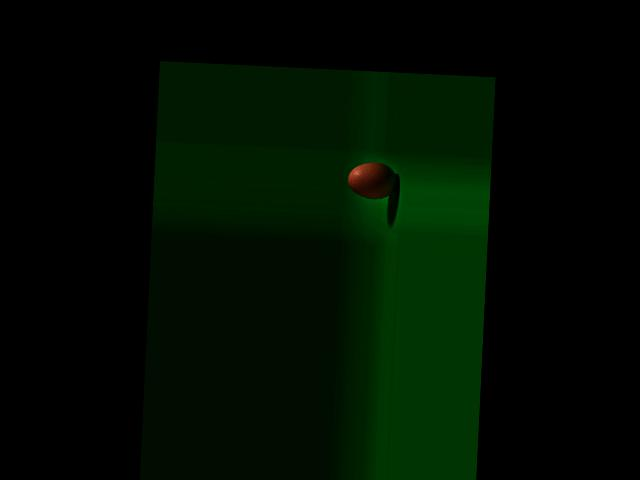egg: (347, 161, 397, 200)
